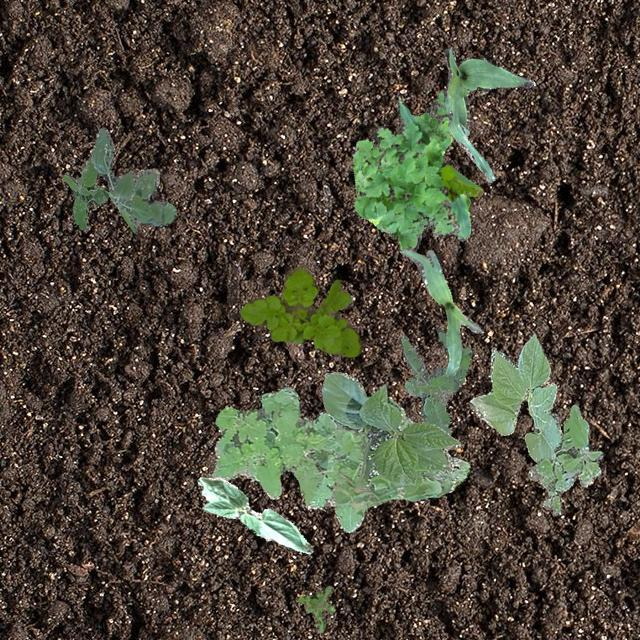crop: (320, 370, 460, 486), (442, 46, 532, 182), (468, 332, 562, 462), (400, 248, 482, 378), (196, 477, 312, 552)
weed: (212, 386, 468, 532), (350, 88, 470, 250), (238, 264, 362, 356), (90, 126, 174, 232), (528, 404, 602, 514), (399, 326, 472, 434), (62, 158, 108, 228), (296, 584, 334, 632), (440, 164, 482, 202)
